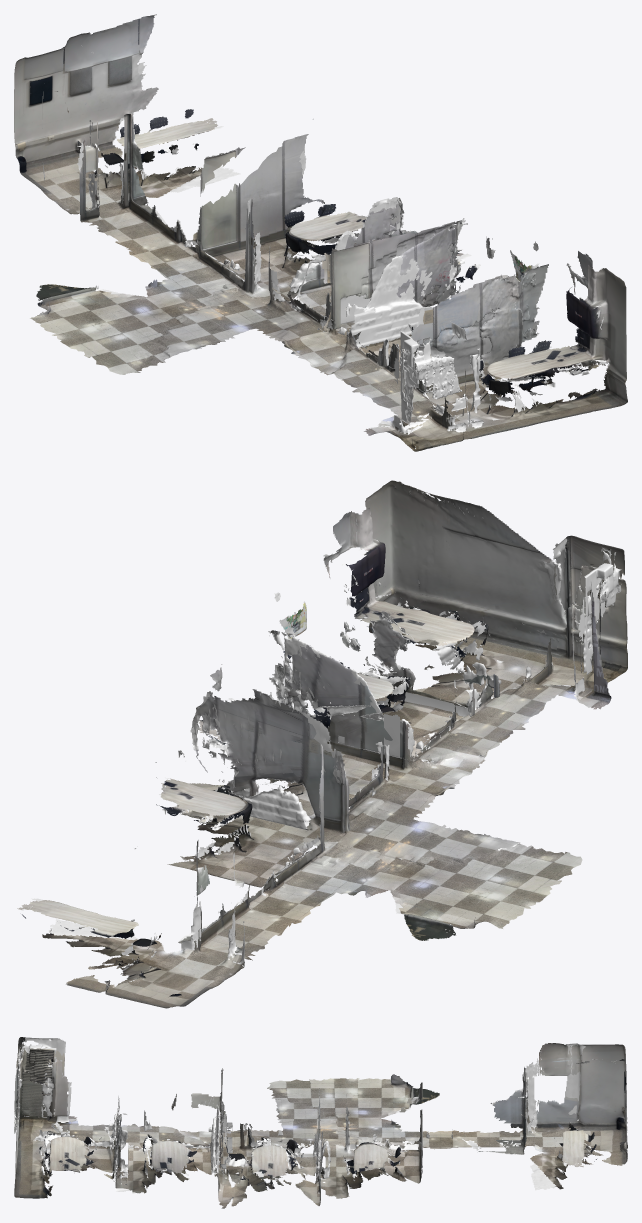
3 views of the same model, one above another, from view 1: azimuth 30°, elevation 25°; view 2: azimuth 150°, elevation 25°; view 3: azimuth 270°, elevation 25° (orthographic). The views are drawn at different scales.
Parts seen in each view (by area): view 1: 8, 10, 4, 7, 2, 9, 3, 1, 6, 0, 5; view 2: 9, 7, 4, 10, 1, 2, 8, 3, 6, 5, 0; view 3: 8, 4, 7, 10, 1, 2, 3, 6, 9, 5, 0.
Boxes of the visible parts, bbox=[...] form: 8: bbox=[14, 15, 203, 287]; 10: bbox=[107, 118, 354, 327]; 4: bbox=[39, 14, 609, 448]; 7: bbox=[30, 261, 355, 375]; 2: bbox=[379, 260, 627, 421]; 9: bbox=[378, 251, 627, 444]; 3: bbox=[164, 220, 532, 369]; 1: bbox=[212, 198, 495, 330]; 6: bbox=[279, 238, 492, 437]; 0: bbox=[298, 238, 489, 370]; 5: bbox=[401, 329, 466, 451]; 9: bbox=[333, 491, 602, 704]; 7: bbox=[234, 745, 582, 940]; 4: bbox=[22, 482, 621, 987]; 10: bbox=[17, 741, 421, 966]; 1: bbox=[156, 670, 377, 858]; 2: bbox=[283, 480, 530, 735]; 8: bbox=[22, 840, 362, 1008]; 3: bbox=[223, 601, 520, 862]; 6: bbox=[221, 645, 611, 801]; 5: bbox=[561, 535, 627, 682]; 0: bbox=[155, 566, 581, 793]; 8: bbox=[391, 1043, 627, 1189]; 4: bbox=[14, 1037, 627, 1196]; 7: bbox=[173, 1074, 439, 1153]; 10: bbox=[270, 1082, 584, 1183]; 1: bbox=[218, 1088, 393, 1205]; 2: bbox=[14, 1096, 188, 1197]; 3: bbox=[140, 1068, 308, 1193]; 6: bbox=[47, 1076, 324, 1202]; 9: bbox=[14, 1079, 121, 1198]; 5: bbox=[14, 1037, 64, 1133]; 0: bbox=[19, 1058, 297, 1208].
Bounding box in the file's own units: 8.39 × 2.94 × 15.95.
11 materials, 10 textured.
